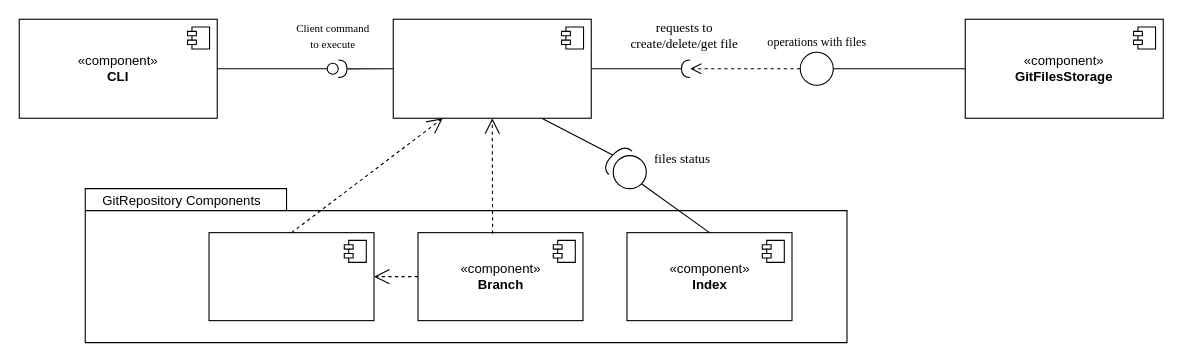
This 1183x362 diagram has some shape labels left out. Each missing label, with the centre of its shape:
«component» Commit: [291,276]
«component» GitRepository: [491,68]
